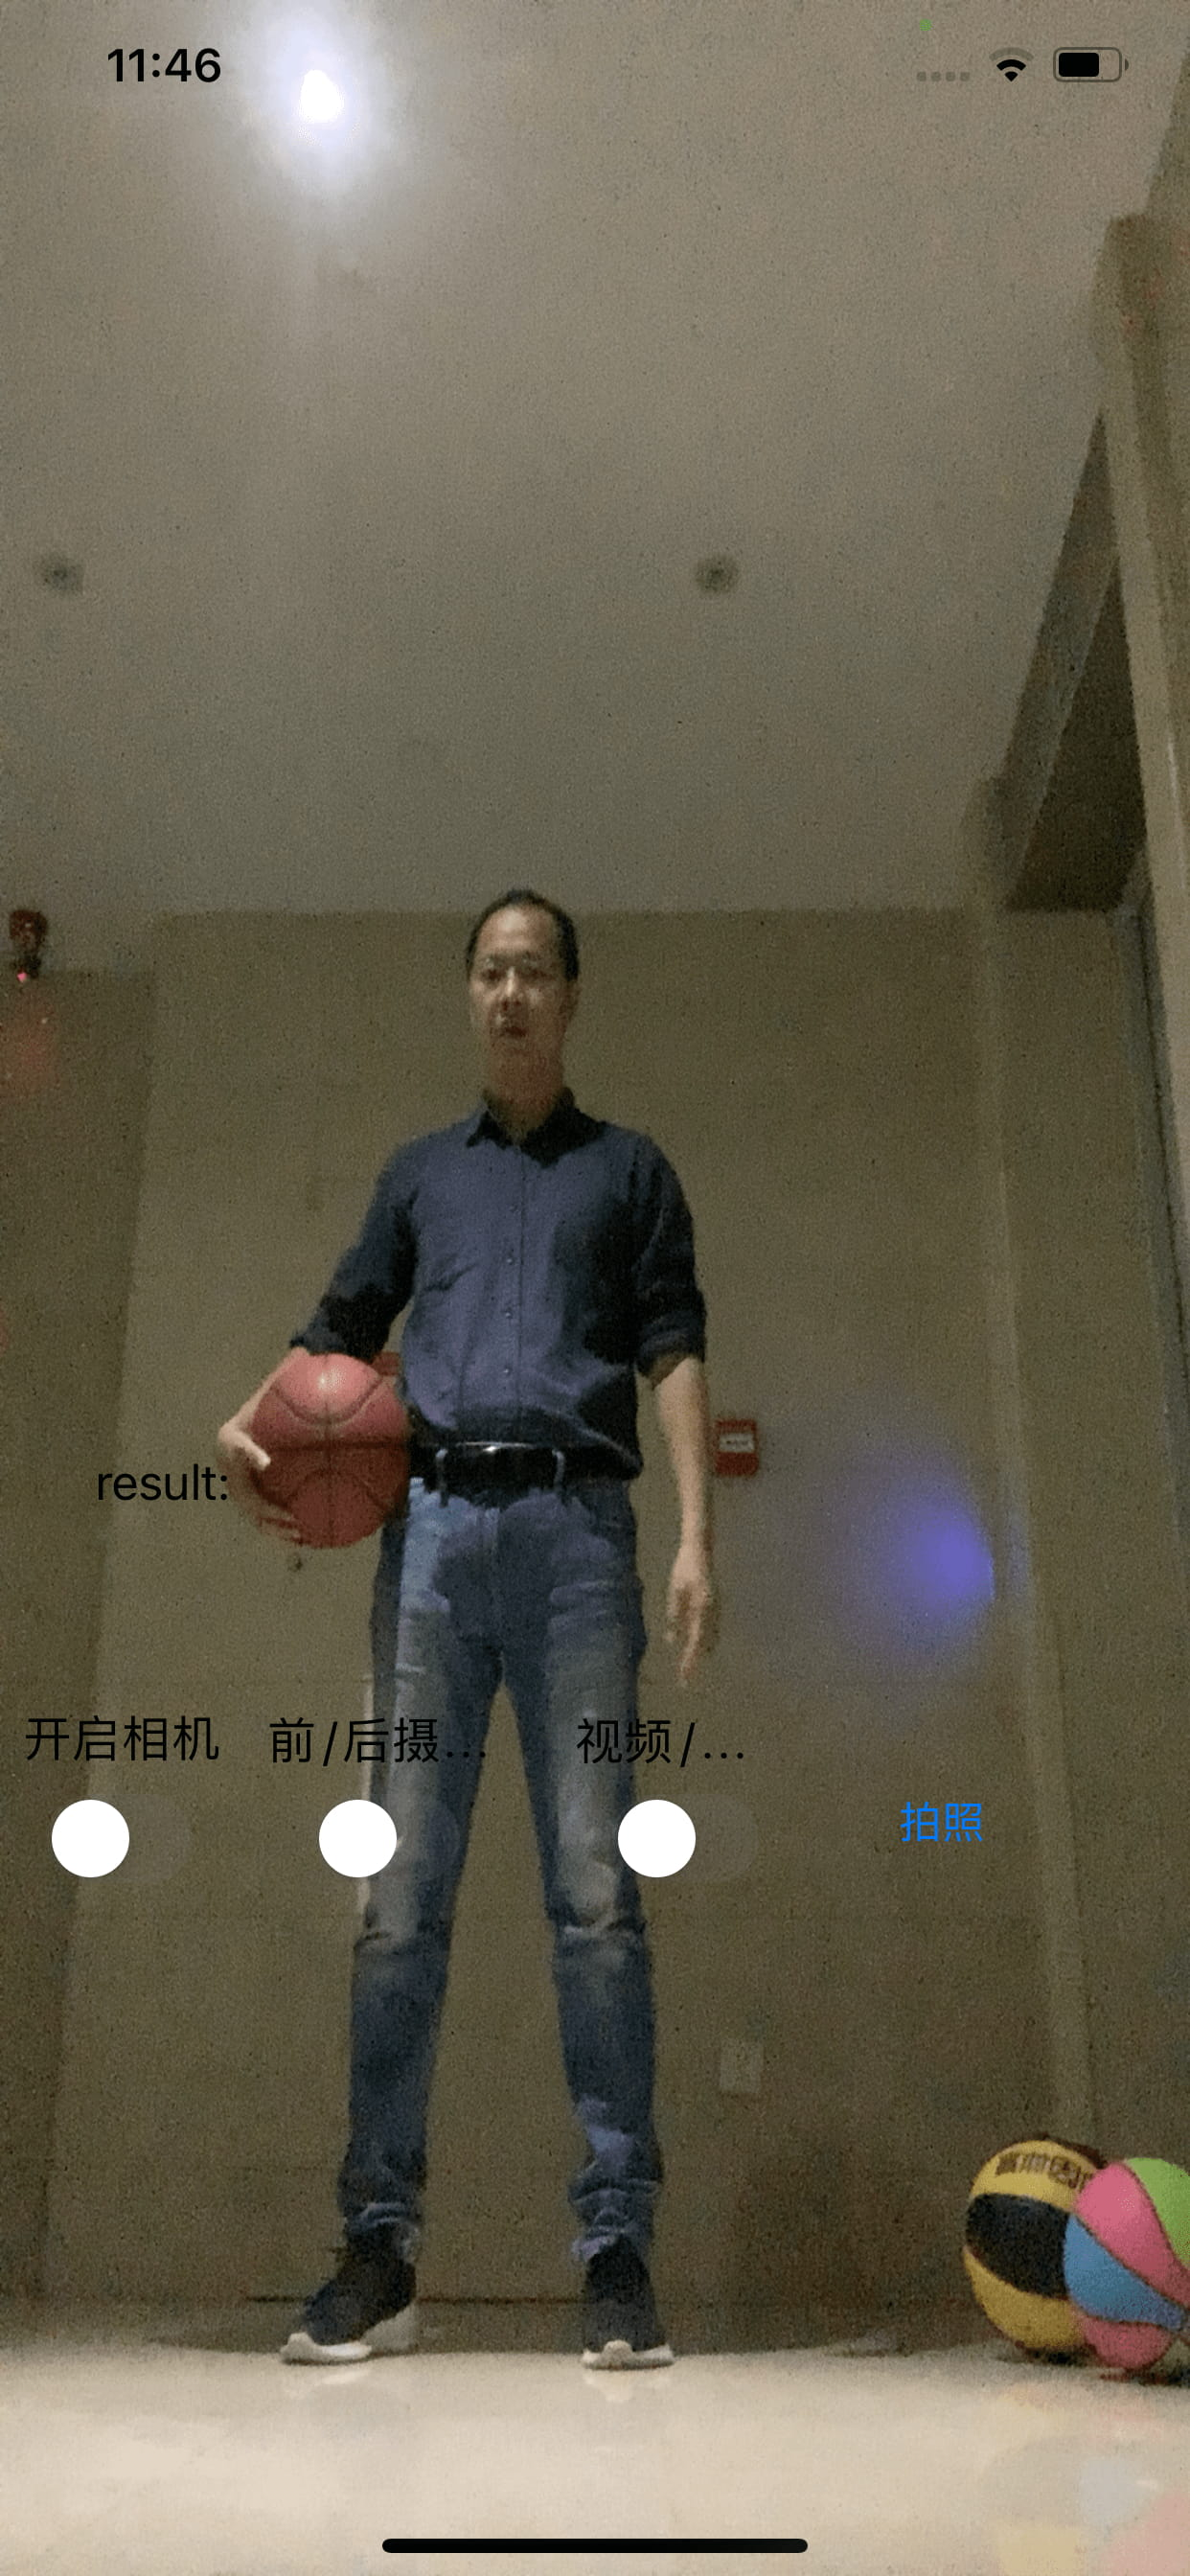ball: (247, 1344, 414, 1544), (963, 2131, 1095, 2362), (1065, 2155, 1190, 2390)
